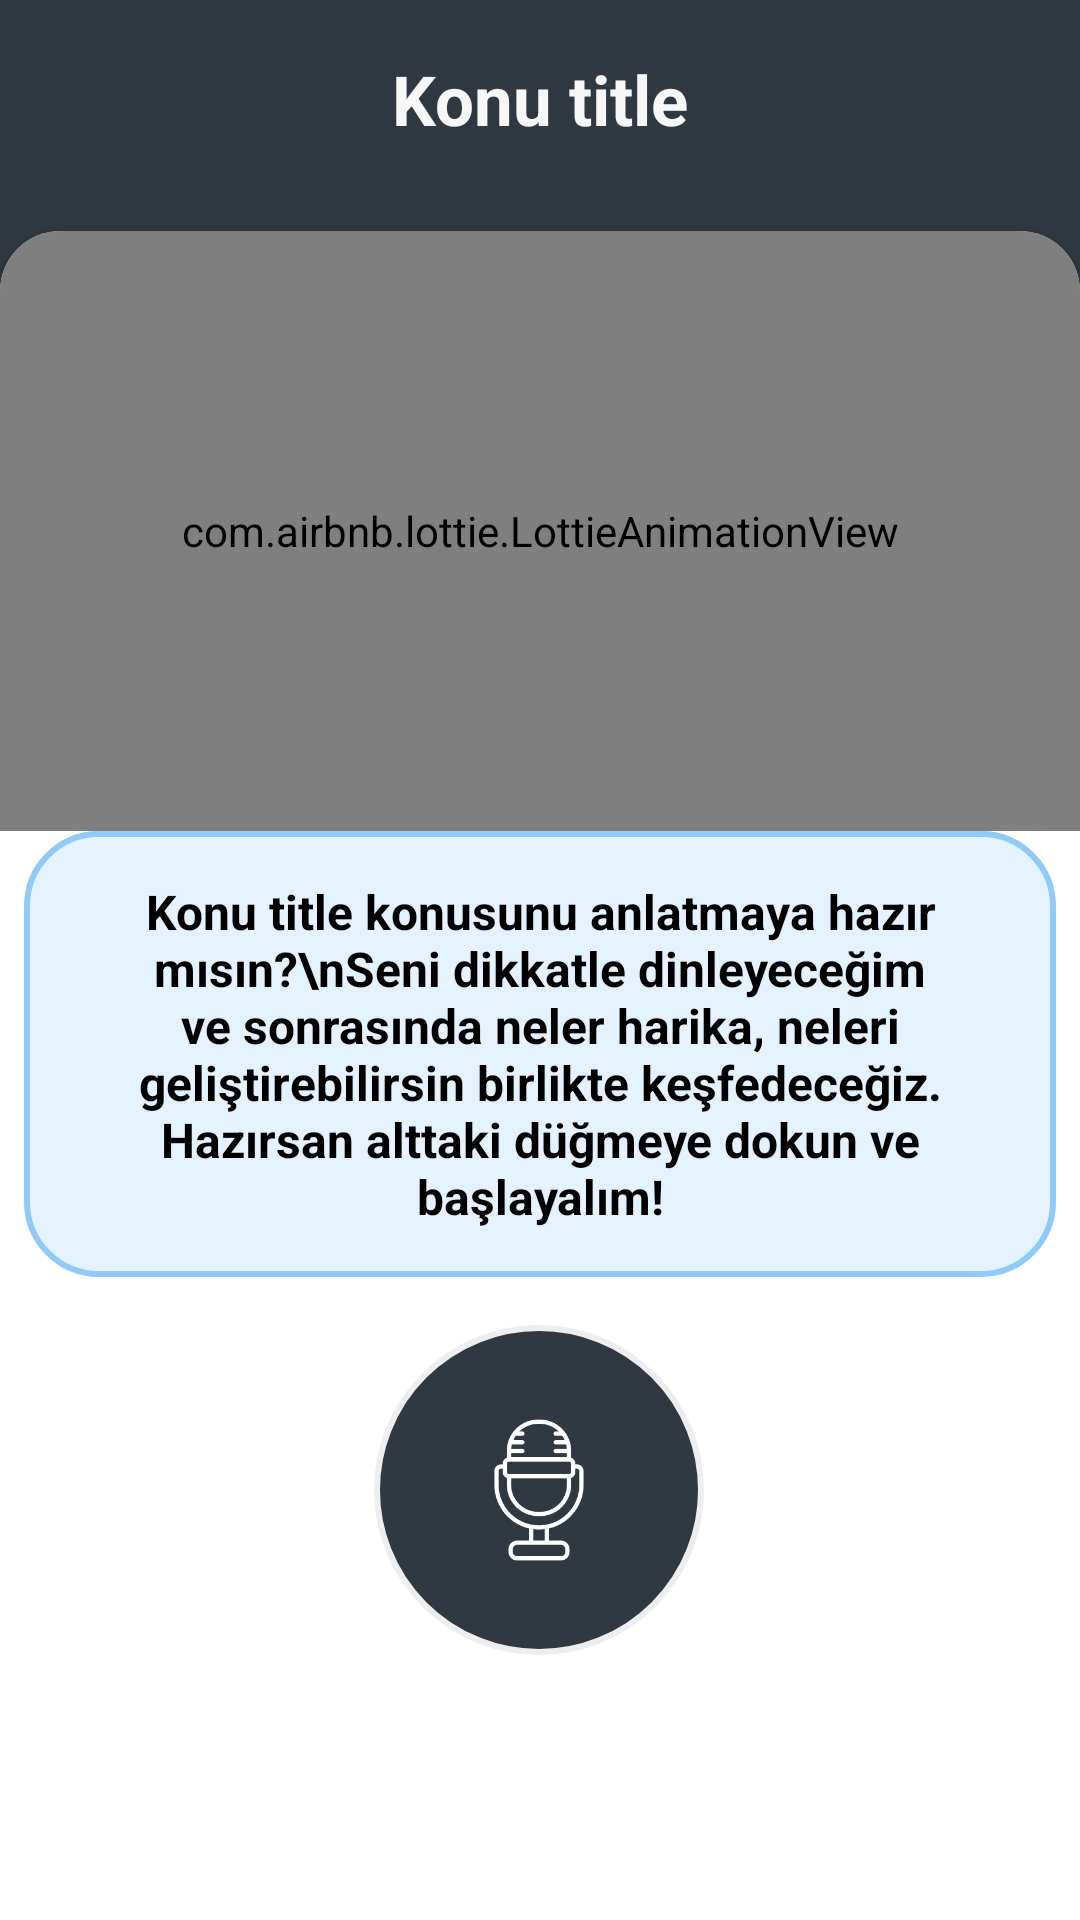

Locate icon controls on the screen. Image size 1080*1920, boxes as (x1, y1, x2, y2).
microphone: (380, 1331, 698, 1649)
